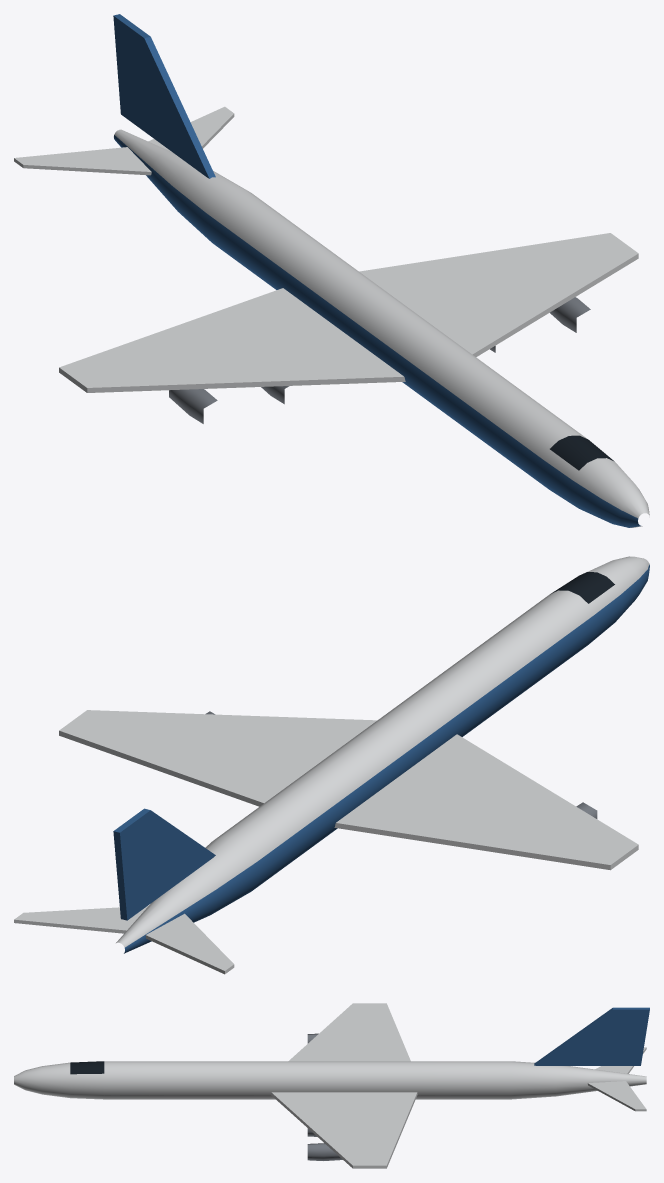
Rendered from mobile-low.glb.
3 views of the same model, one above another, from view 1: azimuth 30°, elevation 25°; view 2: azimuth 150°, elevation 25°; view 3: azimuth 270°, elevation 25° (orthographic). The views are drawn at different scales.
Visible parts, largest first — view 1: transit.airliner; view 2: transit.airliner; view 3: transit.airliner.
Part boxes in pixels (box(x1,y1,x2,y2)): transit.airliner: box(14, 14, 649, 527); transit.airliner: box(14, 556, 649, 974); transit.airliner: box(14, 1003, 649, 1168).
Size of the model in its own units: 34 by 9.41 by 56.3.
